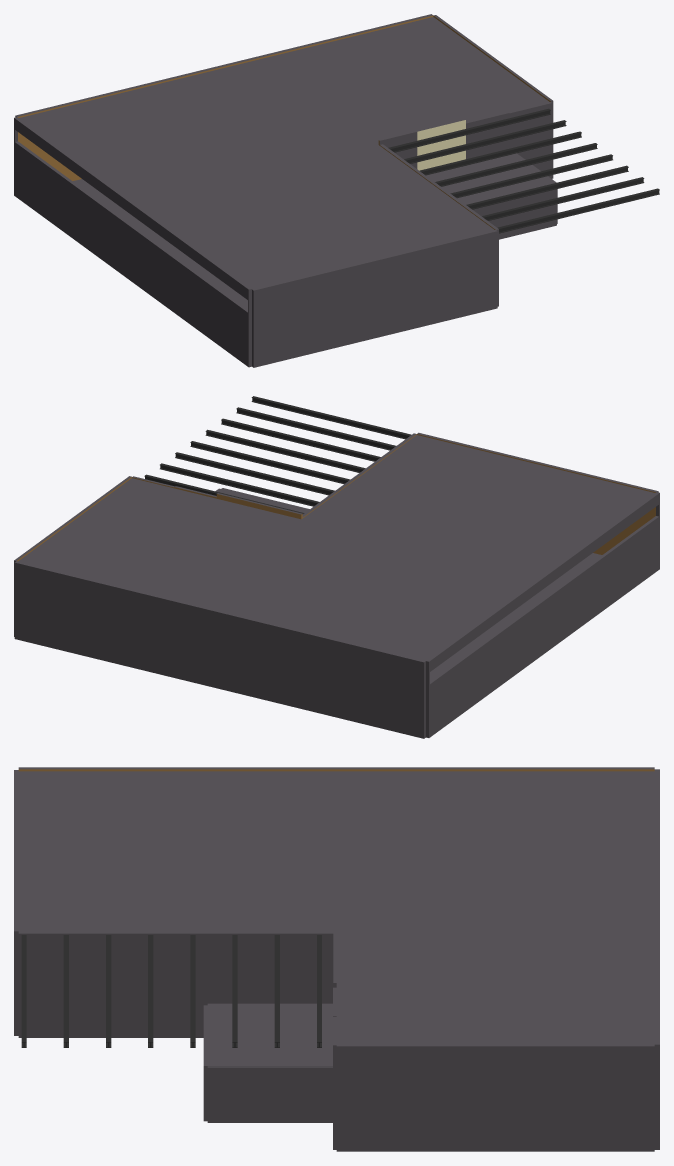
File: starting_warehouse.glb
3 views of the same model, one above another, from view 1: azimuth 30°, elevation 25°; view 2: azimuth 150°, elevation 25°; view 3: azimuth 270°, elevation 25° (orthographic). The views are drawn at different scales.
Visible parts, largest first — view 1: Plane-col, group797547240; view 2: Plane-col, group797547240; view 3: Plane-col, group797547240.
Part boxes in pixels (<box>): Plane-col: <box>14,14,557,367</box>; group797547240: <box>388,108,659,233</box>; Plane-col: <box>14,432,659,738</box>; group797547240: <box>144,396,411,514</box>; Plane-col: <box>14,767,659,1151</box>; group797547240: <box>21,935,321,1047</box>.
Size of the model in its own units: 91.93 by 16.92 by 89.99.
